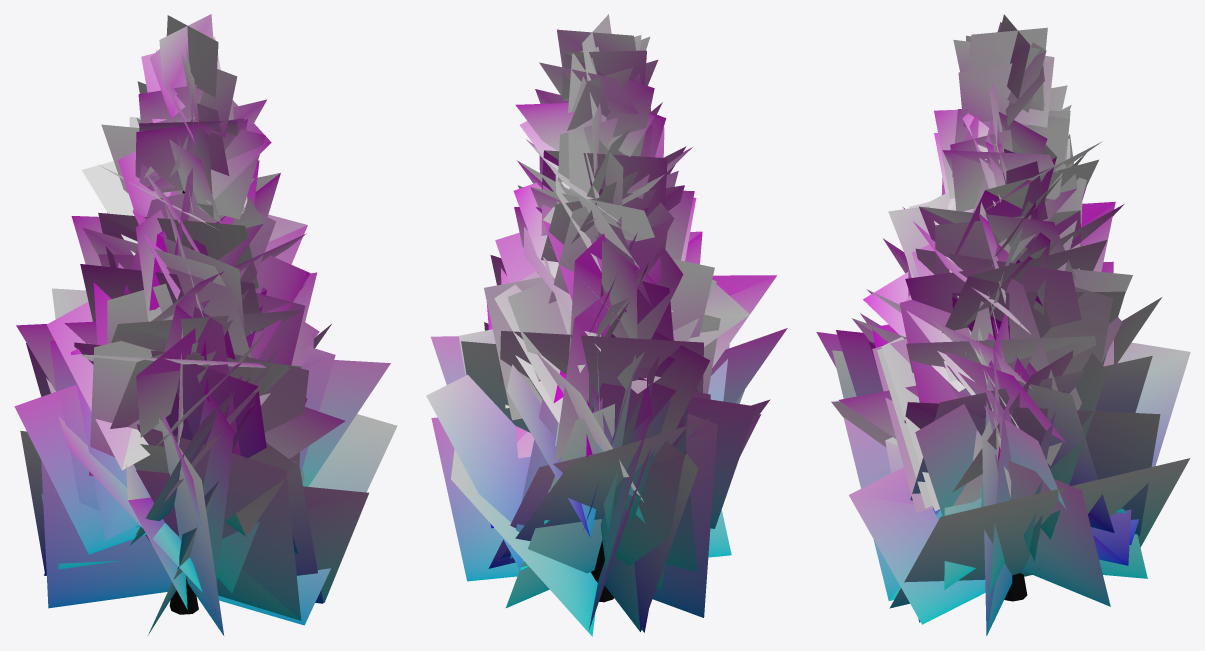
File: thuja_01_big_low.dae
3 views of the same model, side by side, from view 1: azimuth 30°, elevation 25°; view 2: azimuth 150°, elevation 25°; view 3: azimuth 270°, elevation 25° (orthographic). The views are drawn at different scales.
Parts seen in each view (by area): view 1: thujahigh80; view 2: thujahigh80; view 3: thujahigh80.
Part boxes in pixels (x1,y1,x2,y2): thujahigh80: [14, 14, 397, 635]; thujahigh80: [426, 14, 787, 636]; thujahigh80: [816, 14, 1190, 635].
Size of what is drawn, in the model's own units: 12.05 by 11.67 by 19.55.
